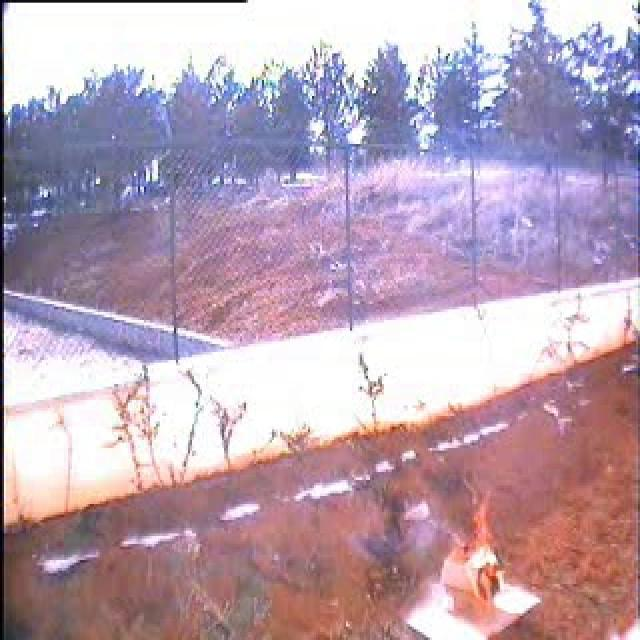Fire: (452, 491, 492, 564), (470, 560, 500, 618)
Smoke: (151, 498, 465, 614), (447, 371, 582, 533)
